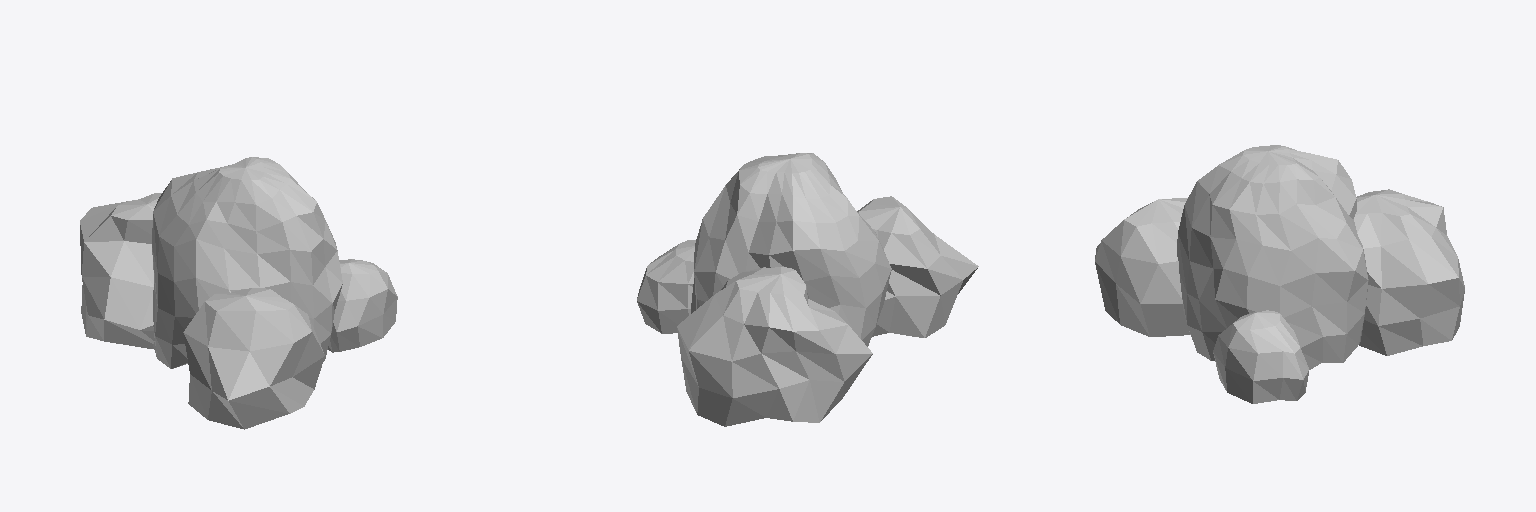
File: stones_1.obj
3 views of the same model, side by side, from view 1: azimuth 30°, elevation 25°; view 2: azimuth 150°, elevation 25°; view 3: azimuth 270°, elevation 25° (orthographic).
Parts seen in each view (by area): view 1: Sphere001; view 2: Sphere001; view 3: Sphere001.
Boxes of the visible parts, <box> form: Sphere001: <box>80,157,397,429</box>; Sphere001: <box>637,153,978,426</box>; Sphere001: <box>1095,145,1464,403</box>.
Size of the model in its own units: 614 by 442 by 767.